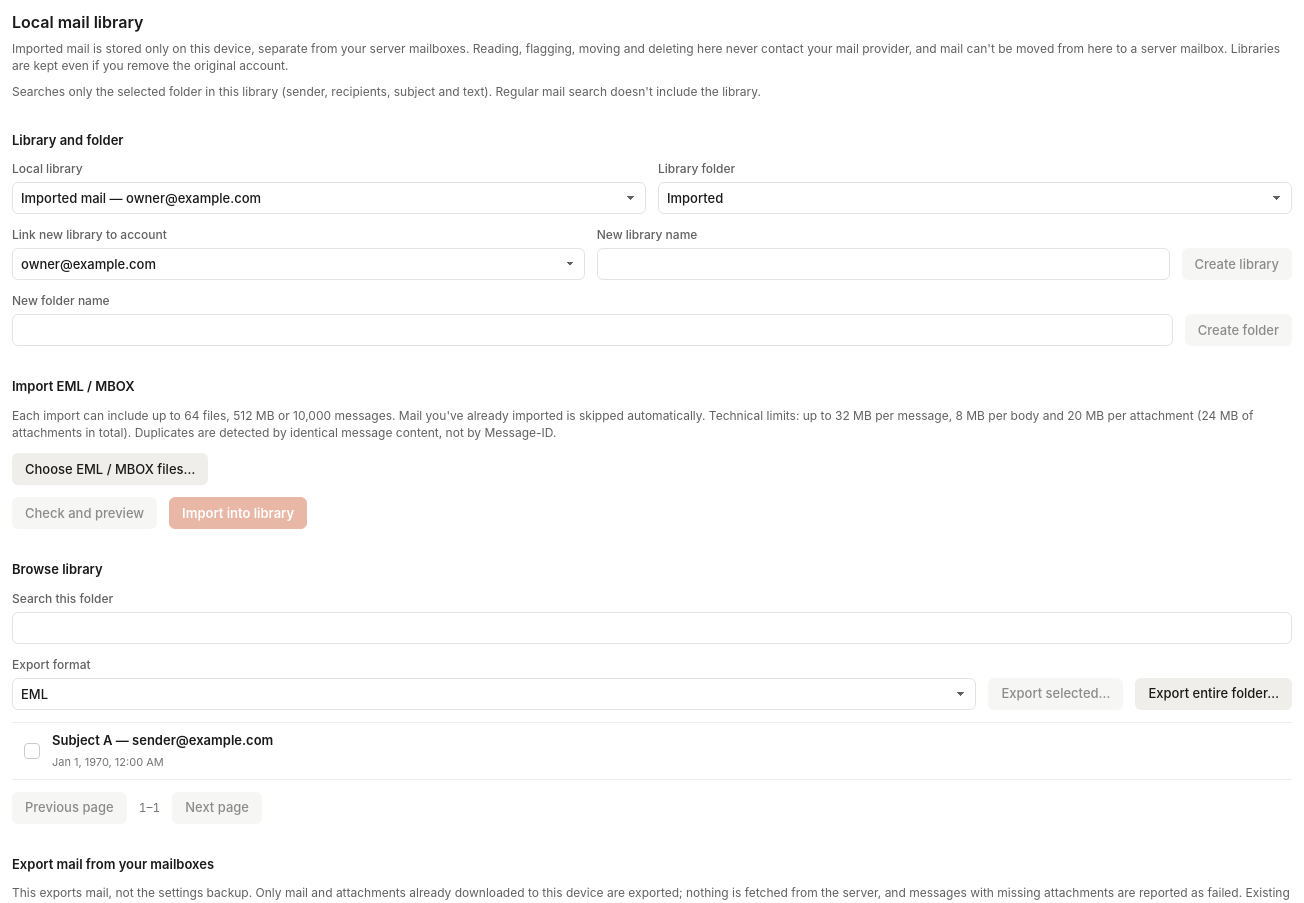
Scenario: Local mail archive browser › keeps a running import alive when the page unmounts and reports completion
Later steps or results of the test are not shown.
expect the button "Subject A — sender@example.com Jan 1, 1970, 12:00 AM" is shown: met, box [52, 723, 1292, 779]
What coordinates should you click on to do the following:
click the button "Choose EML / MBOX files…"
I would click on:
 (110, 470)
Its box is [12, 454, 208, 486].
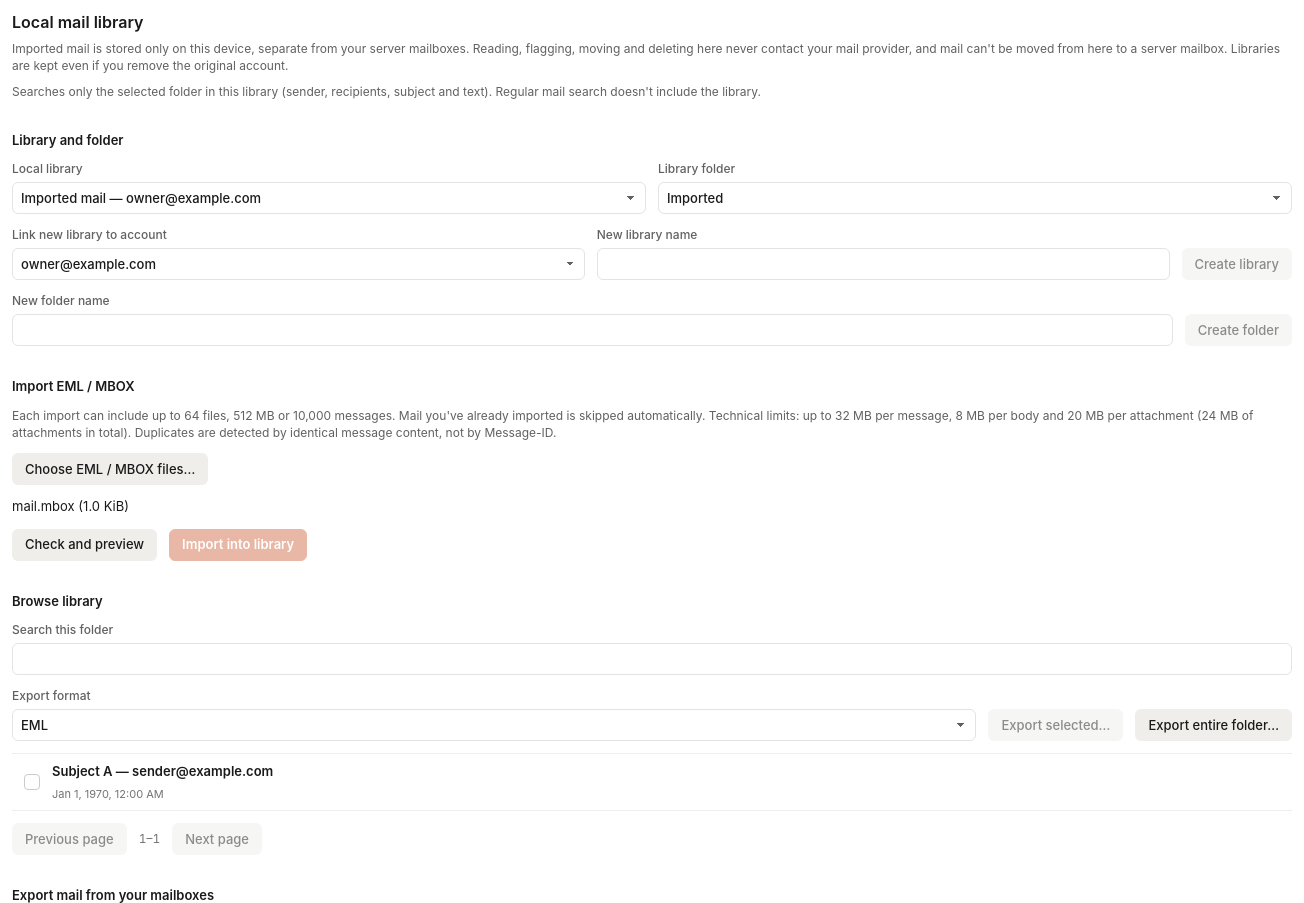
expect the list item "mail.mbox (1.0 KiB)" is shown: met, box [12, 498, 129, 514]
